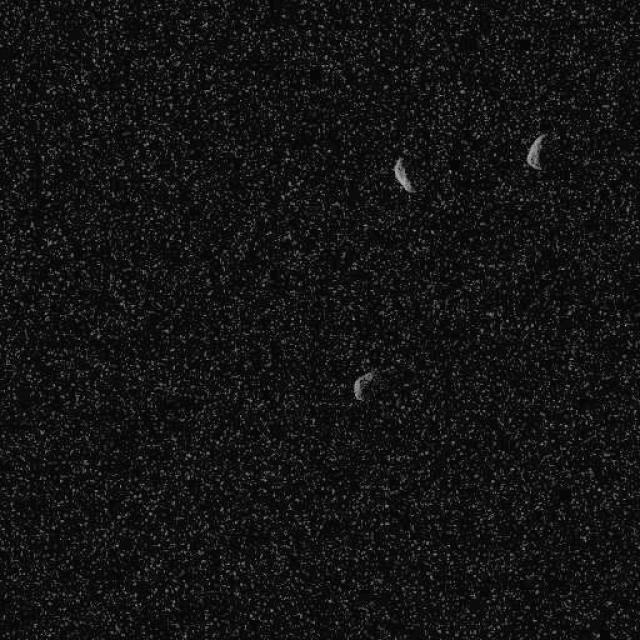D2: (392, 155, 418, 194), (524, 132, 545, 172), (352, 368, 376, 402)
